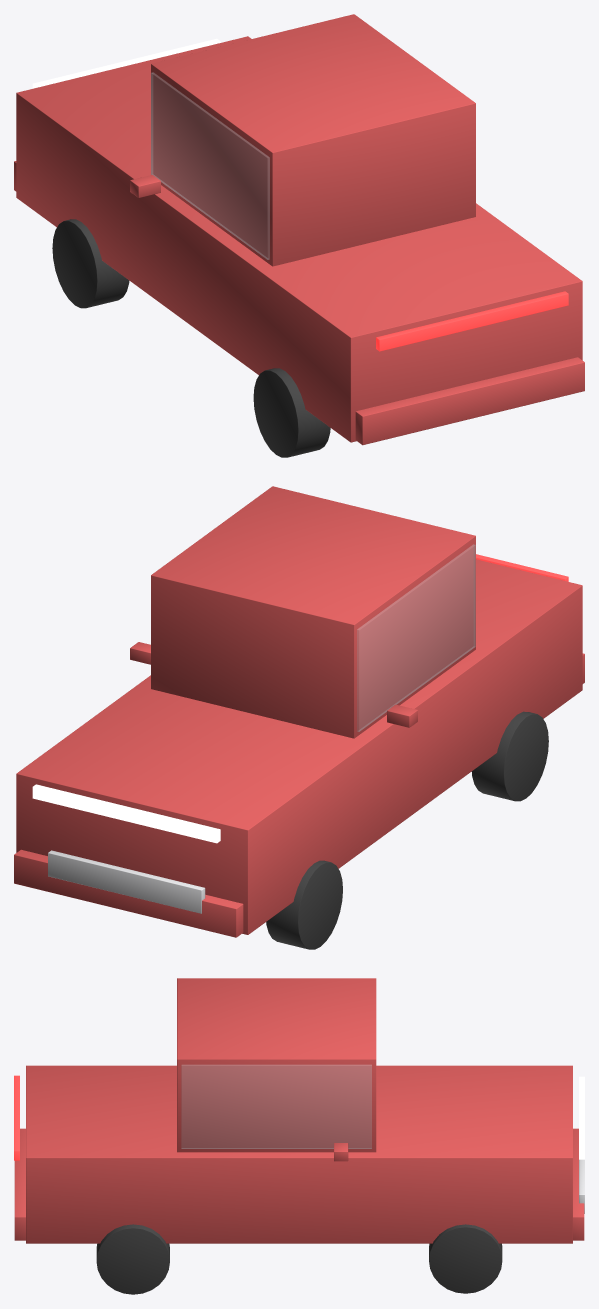
File: vehicle.glb
The picture shows the model from 3 angles, top to bottom: view 1: azimuth 30°, elevation 25°; view 2: azimuth 150°, elevation 25°; view 3: azimuth 270°, elevation 25°; orthographic projection. The views are drawn at different scales.
Parts seen in each view (by area): view 1: BODY_Main, BODY_Roof, GLASS_Greenhouse, BODY_Bumpers_Rear, WHEEL_RR_Tire, WHEEL_FR_Tire, LIGHT_Taillights, LIGHT_Headlights, BODY_Mirror_R; view 2: BODY_Main, BODY_Roof, GLASS_Greenhouse, BODY_Bumpers_Front, WHEEL_RR_Tire, WHEEL_FR_Tire, BODY_Grille, LIGHT_Headlights; view 3: BODY_Main, BODY_Roof, GLASS_Greenhouse, WHEEL_RL_Tire, WHEEL_FL_Tire, BODY_Bumpers_Rear, BODY_Bumpers_Front, LIGHT_Taillights, LIGHT_Headlights.
Part boxes in pixels (box(x1,y1,x2,y2)): BODY_Main: box(16, 36, 582, 442); BODY_Roof: box(151, 14, 475, 266); GLASS_Greenhouse: box(151, 72, 269, 259); BODY_Bumpers_Rear: box(355, 357, 584, 445); WHEEL_RR_Tire: box(253, 368, 330, 457); WHEEL_FR_Tire: box(52, 219, 129, 308); LIGHT_Taillights: box(376, 291, 568, 351); LIGHT_Headlights: box(32, 38, 220, 88); BODY_Mirror_R: box(130, 175, 160, 197); BODY_Main: box(16, 559, 582, 934); BODY_Roof: box(151, 486, 475, 738); GLASS_Greenhouse: box(357, 544, 475, 731); BODY_Bumpers_Front: box(14, 849, 243, 937); WHEEL_RR_Tire: box(471, 711, 548, 801); WHEEL_FR_Tire: box(266, 860, 342, 949); BODY_Grille: box(48, 850, 205, 913); LIGHT_Headlights: box(32, 784, 220, 843); BODY_Main: box(26, 1065, 572, 1243); BODY_Roof: box(177, 978, 376, 1152); GLASS_Greenhouse: box(181, 1065, 371, 1148); WHEEL_RL_Tire: box(96, 1224, 169, 1294); WHEEL_FL_Tire: box(429, 1224, 502, 1293); BODY_Bumpers_Rear: box(14, 1128, 25, 1240); BODY_Bumpers_Front: box(573, 1128, 584, 1240); LIGHT_Taillights: box(14, 1075, 19, 1160); LIGHT_Headlights: box(579, 1076, 584, 1159).
Size of the model in its own units: 2.22 by 2.1 by 4.81.
